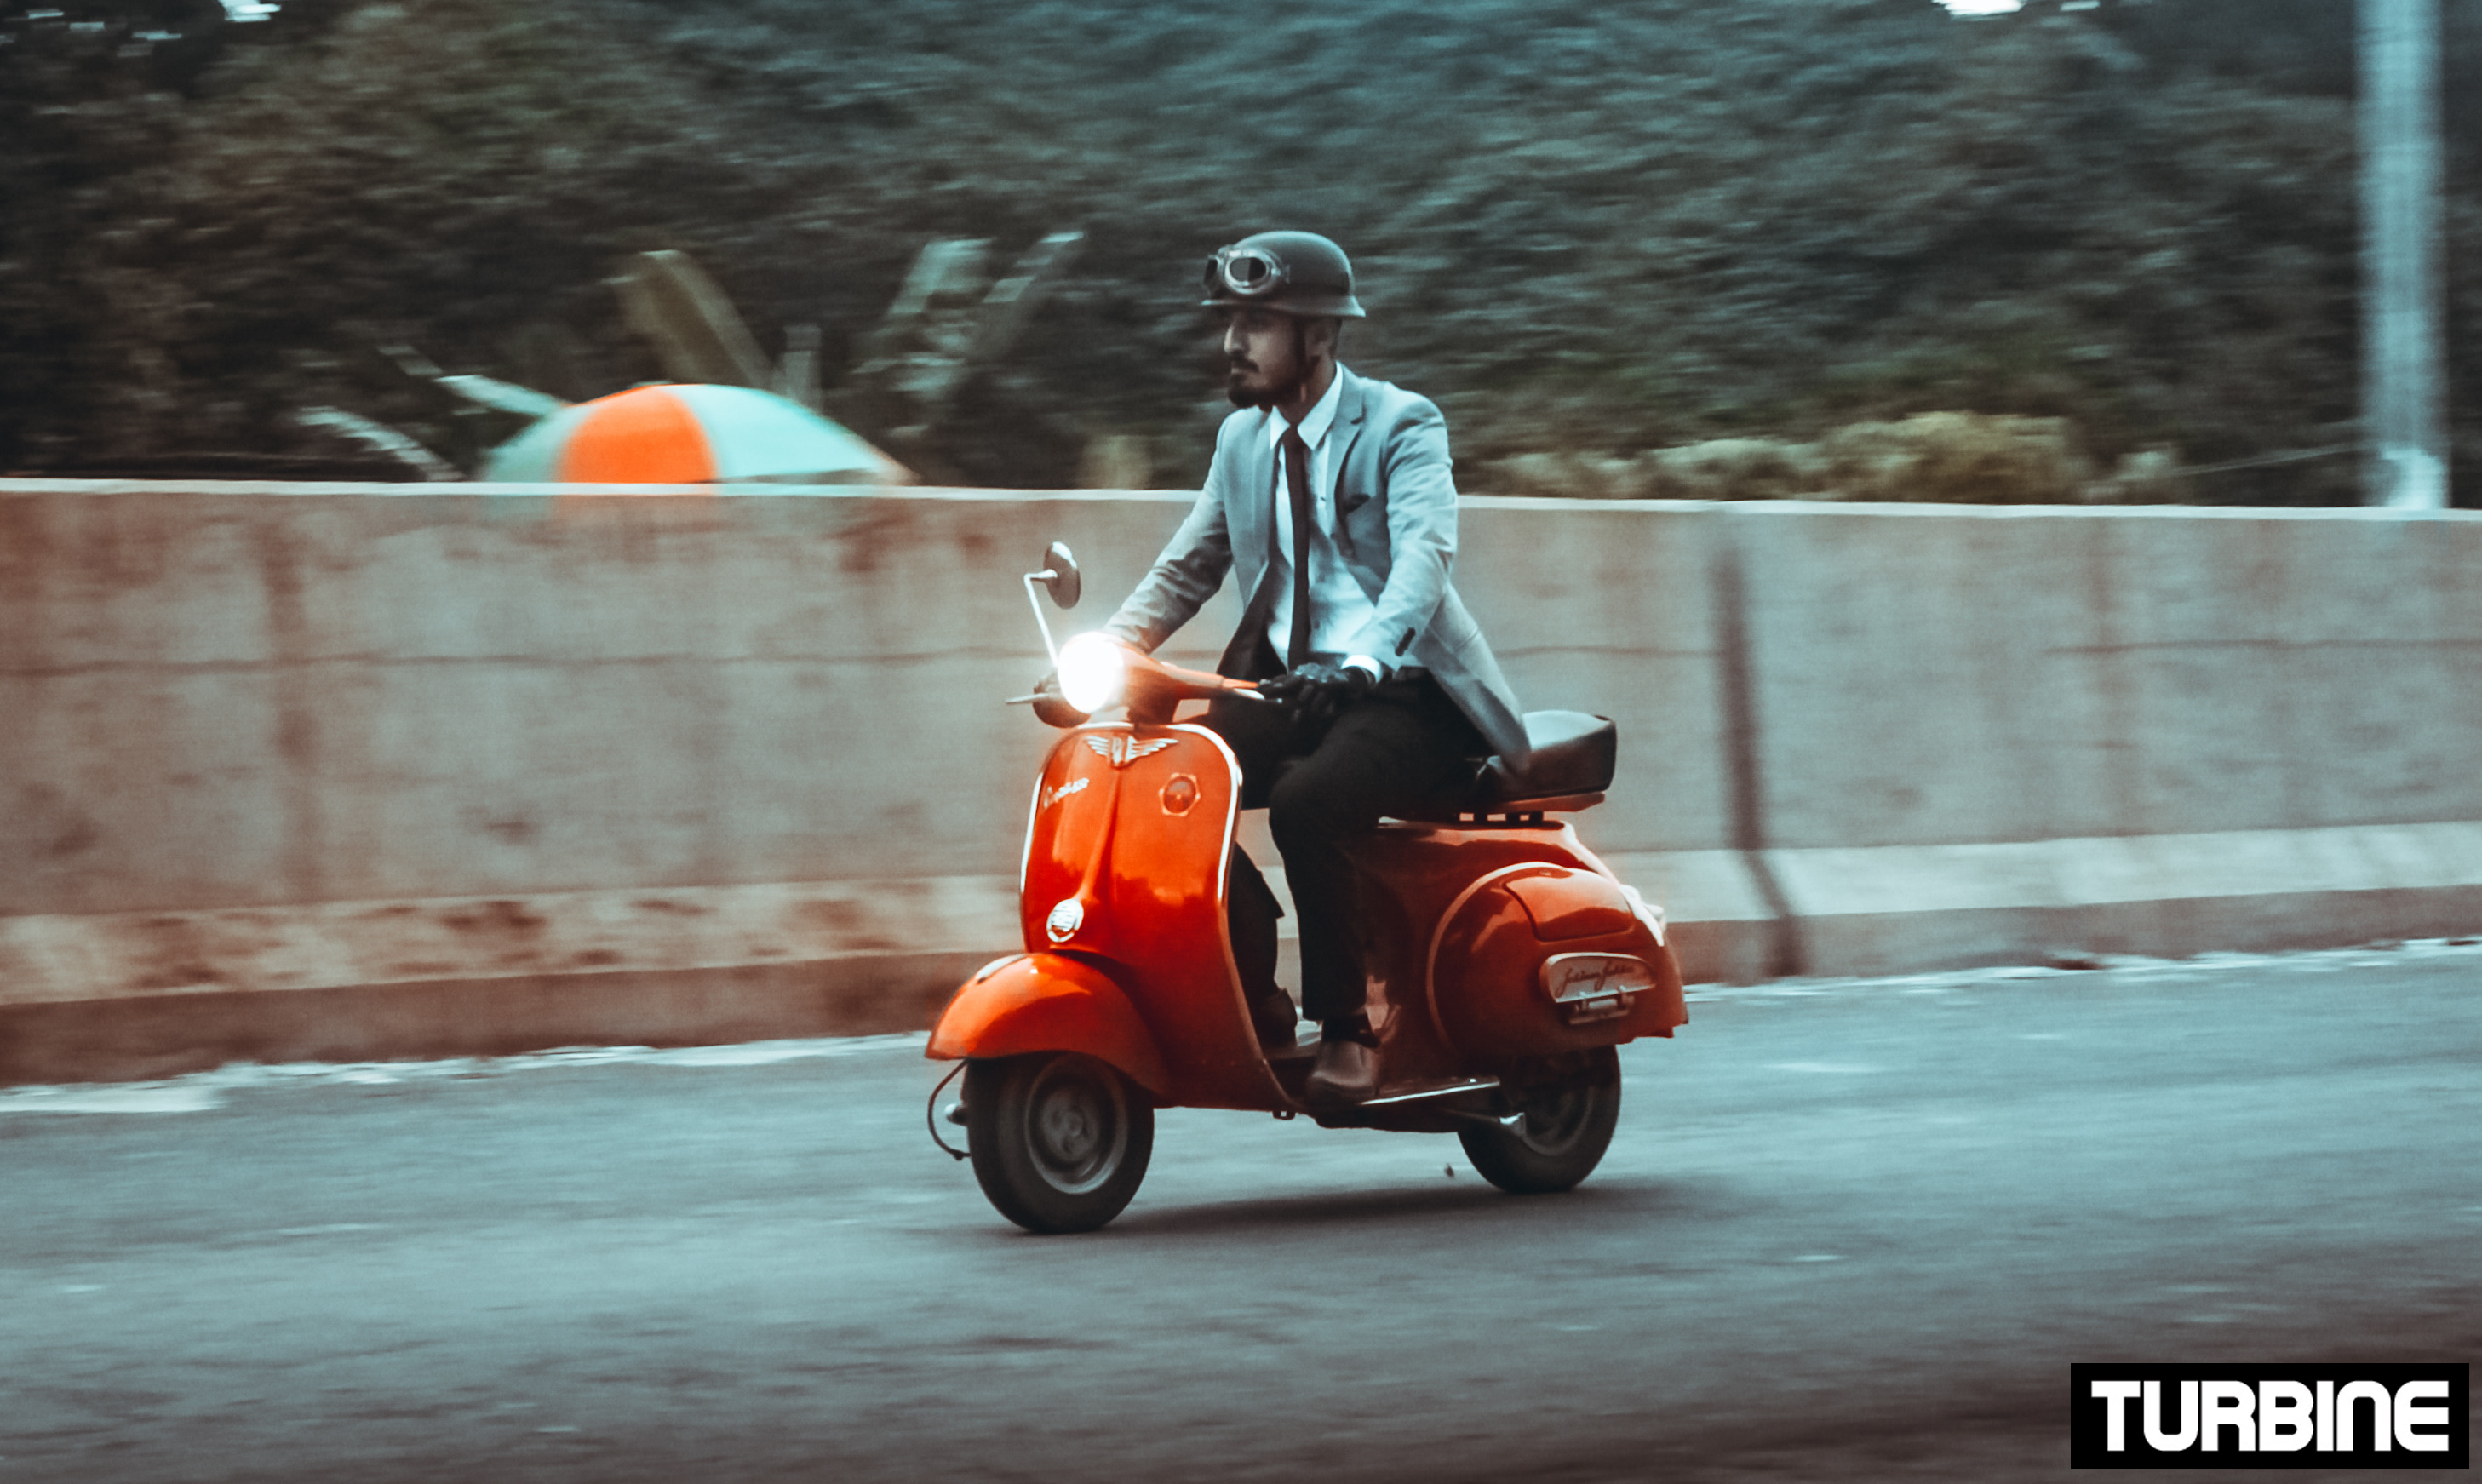scooter: (912, 532, 1694, 1237)
